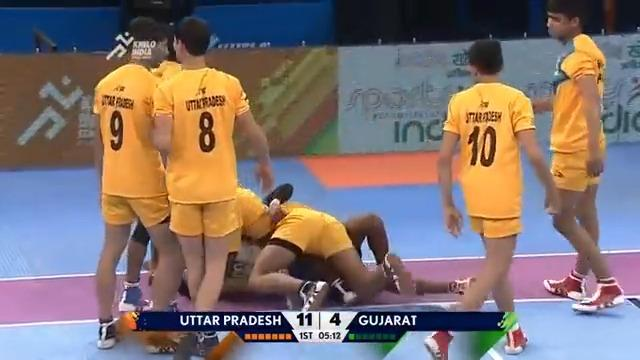Player: (423, 37, 560, 358), (149, 15, 275, 357), (91, 16, 185, 351), (236, 181, 474, 311), (529, 0, 625, 313)
